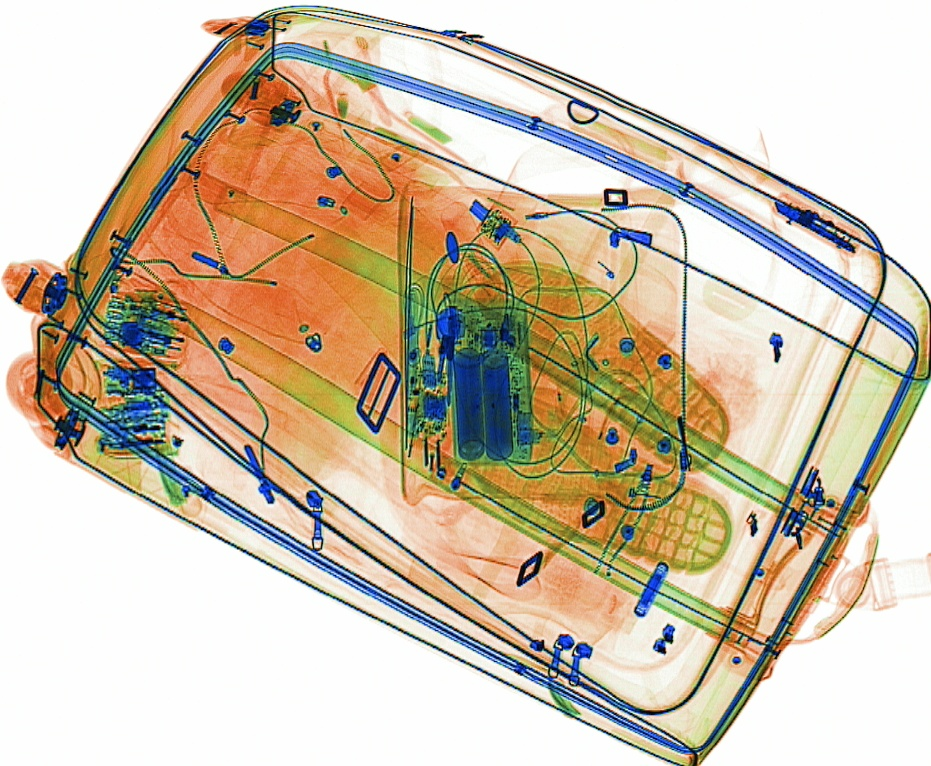powerbank: (432, 297, 535, 469)
